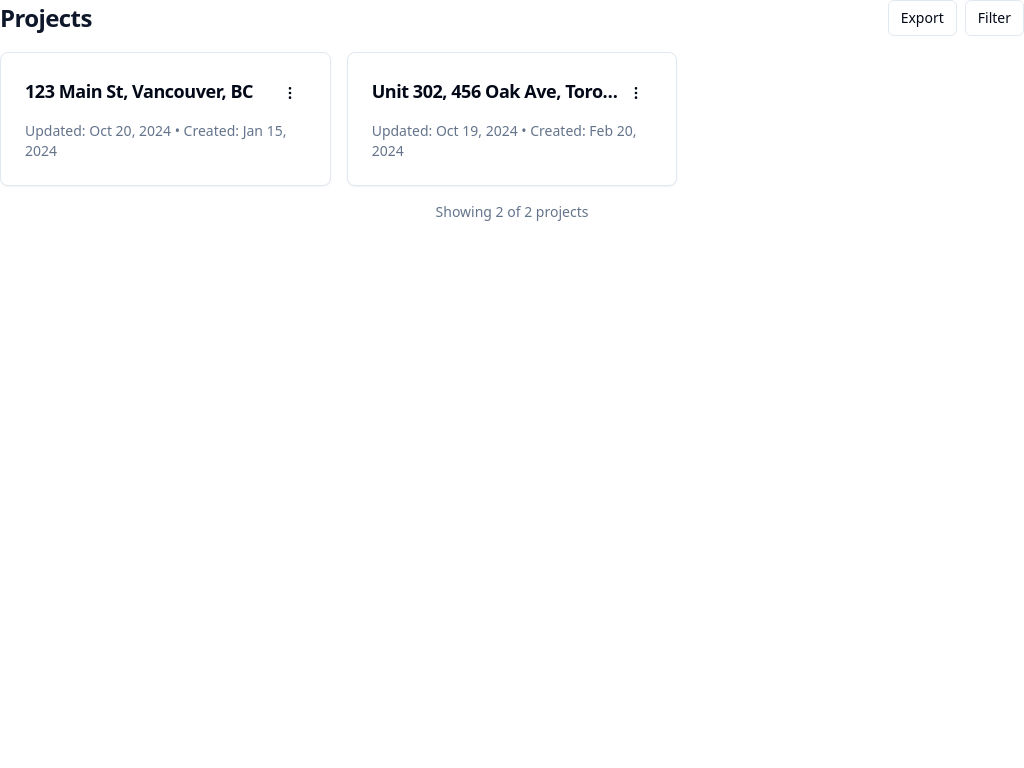
Test: ProjectsSection › Filter Functionality › opens filter sheet when Filter button is clicked
What coordinates should you click on to do the following:
click the button "Filter"
I would click on:
 (994, 18)
Its box is [965, 0, 1023, 36].
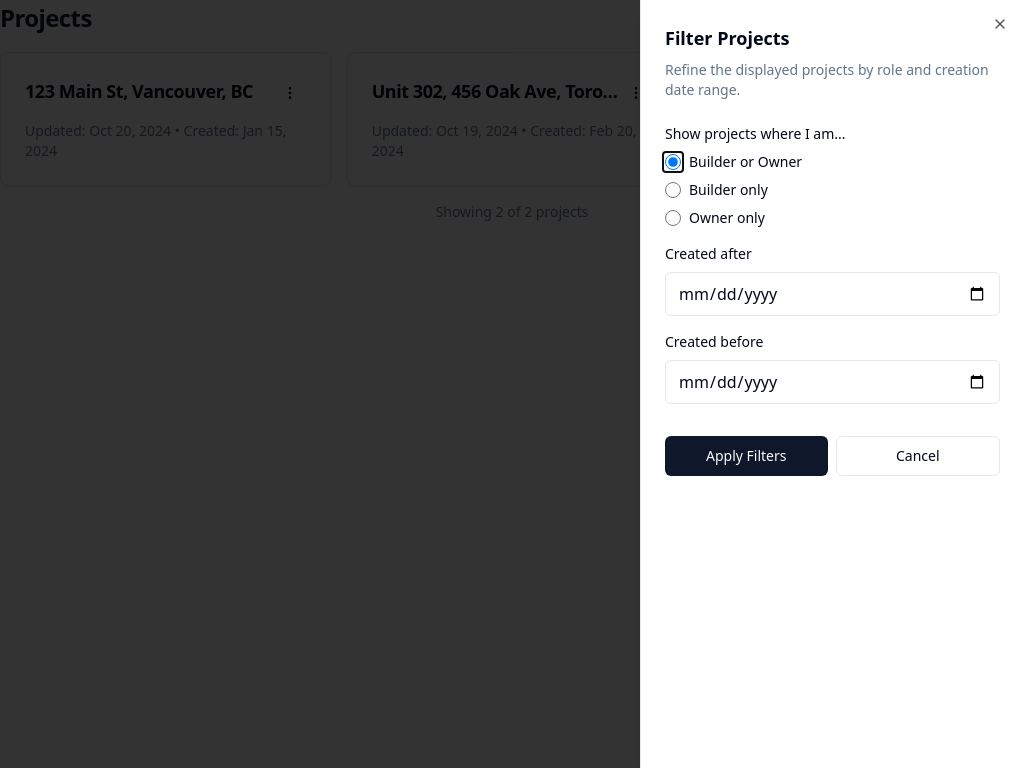
Expected: the heading "Filter Projects" is shown, [665, 26, 790, 50]
